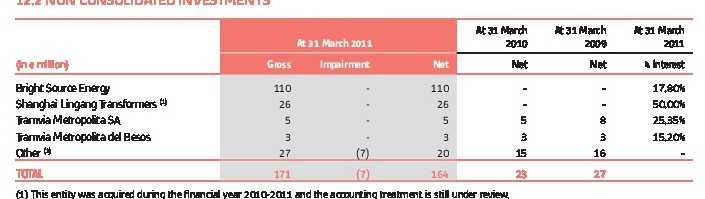table: (0, 0, 705, 199)
